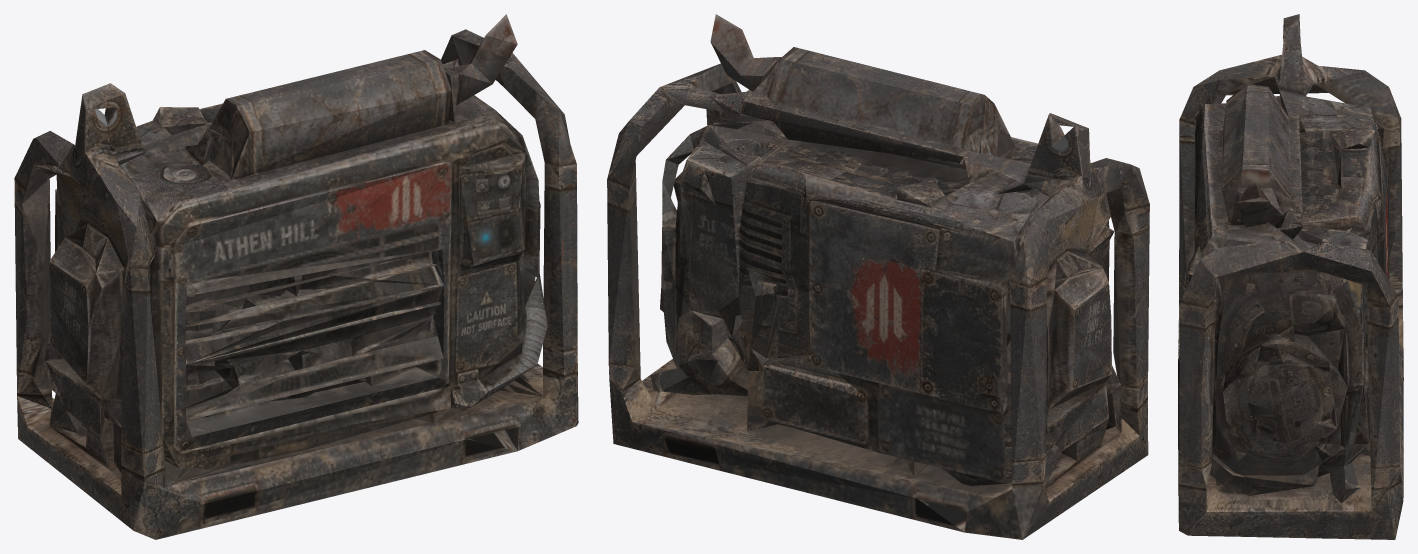
File: generator.glb
The picture shows the model from 3 angles, left to right: view 1: azimuth 30°, elevation 25°; view 2: azimuth 150°, elevation 25°; view 3: azimuth 270°, elevation 25°; orthographic projection. The views are drawn at different scales.
Bounding box in the file's own units: 1.9 × 1.61 × 0.9354.
Materials: 1 (1 with a texture image).
